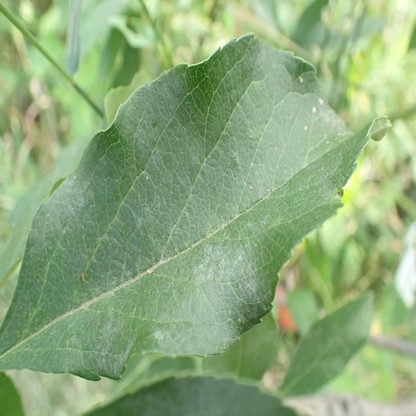powdery_mildew: (0, 32, 393, 380)
